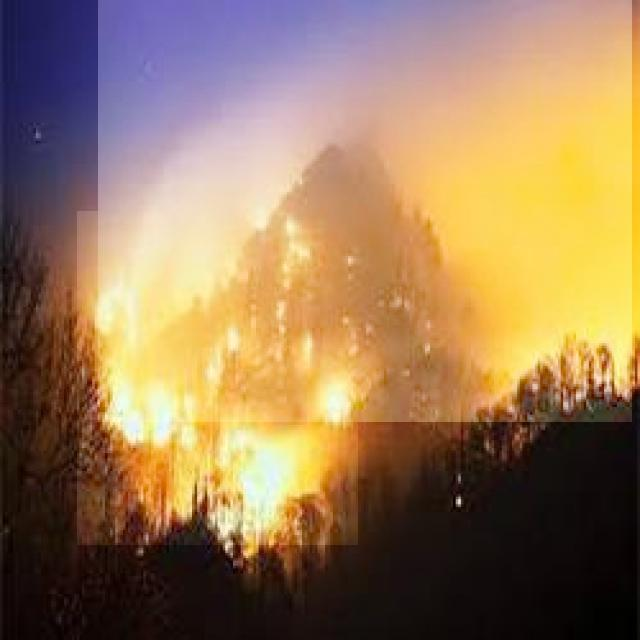Fire: (77, 211, 358, 545)
Smoke: (98, 0, 632, 422)
